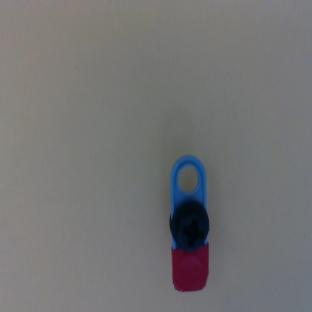part_1_good: (168, 155, 210, 291)
